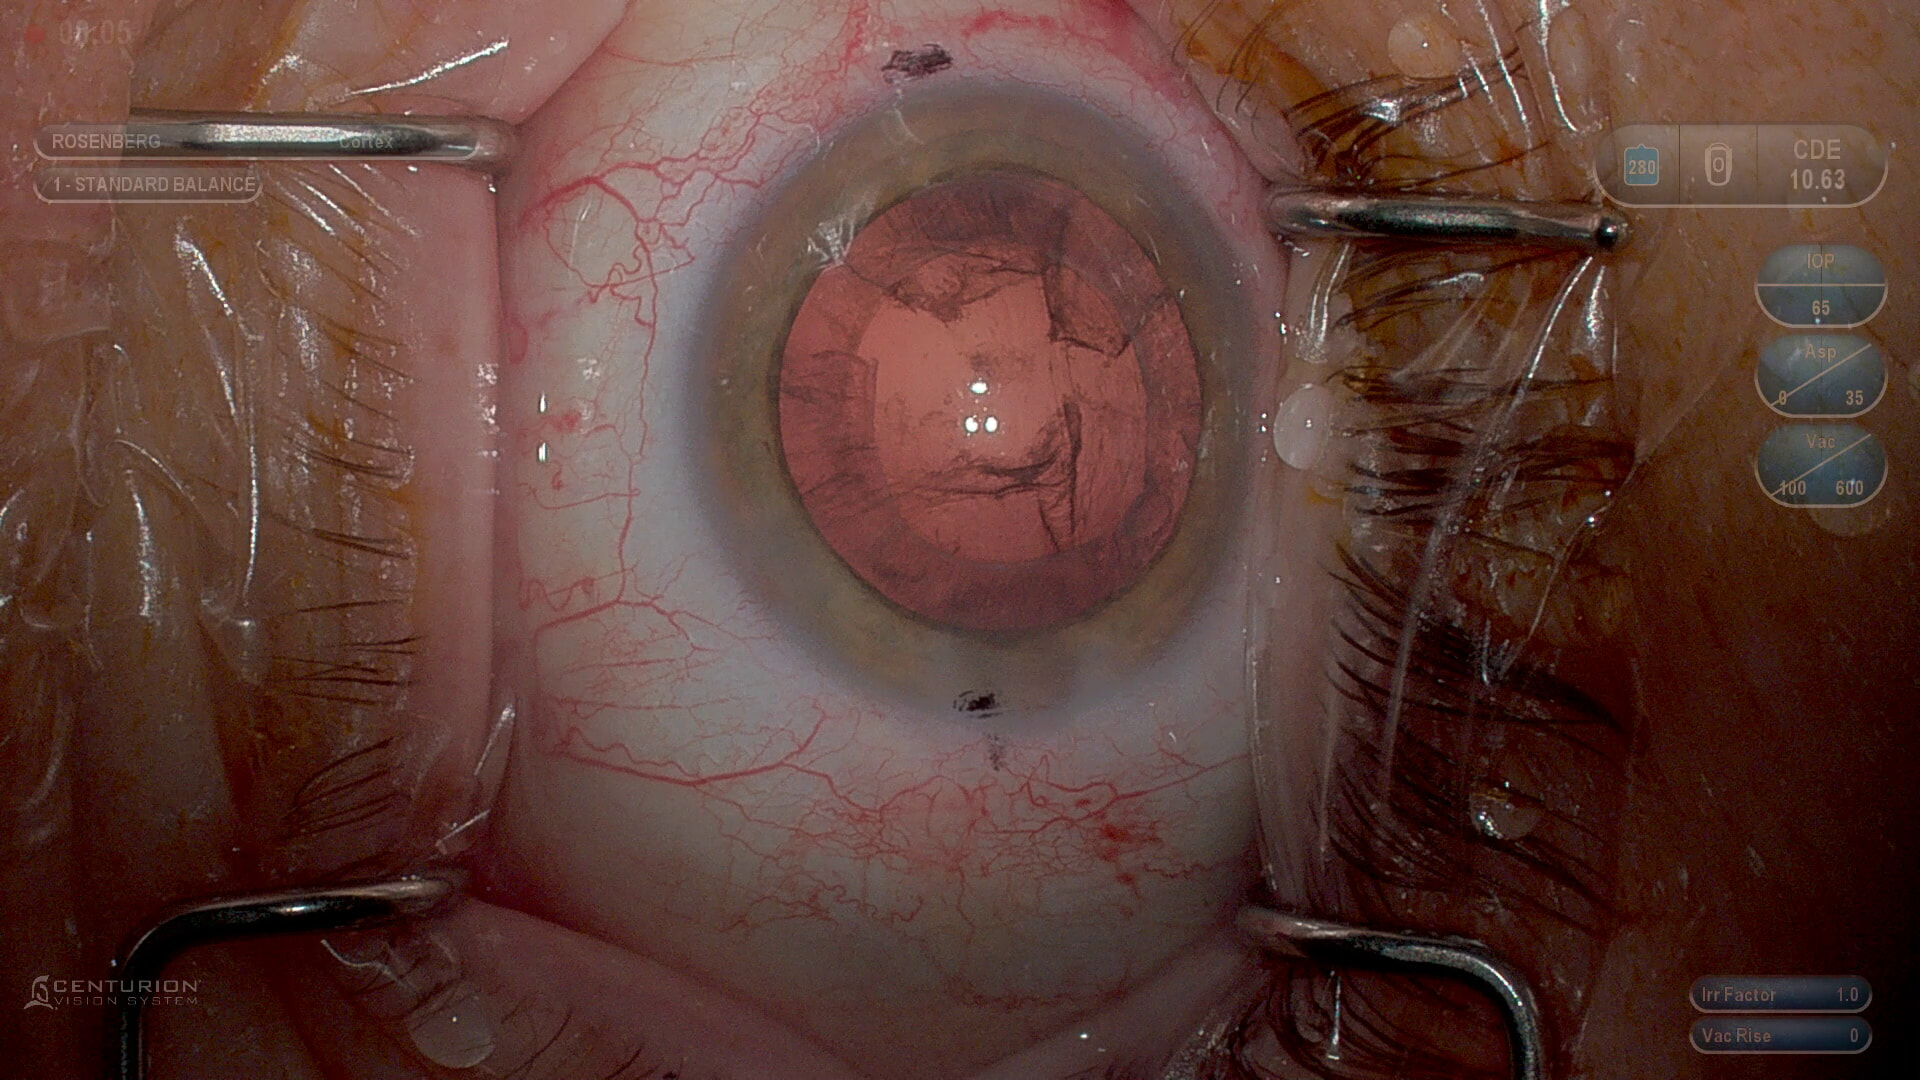iris: (711, 89, 1262, 689)
pupil: (776, 160, 1206, 639)
